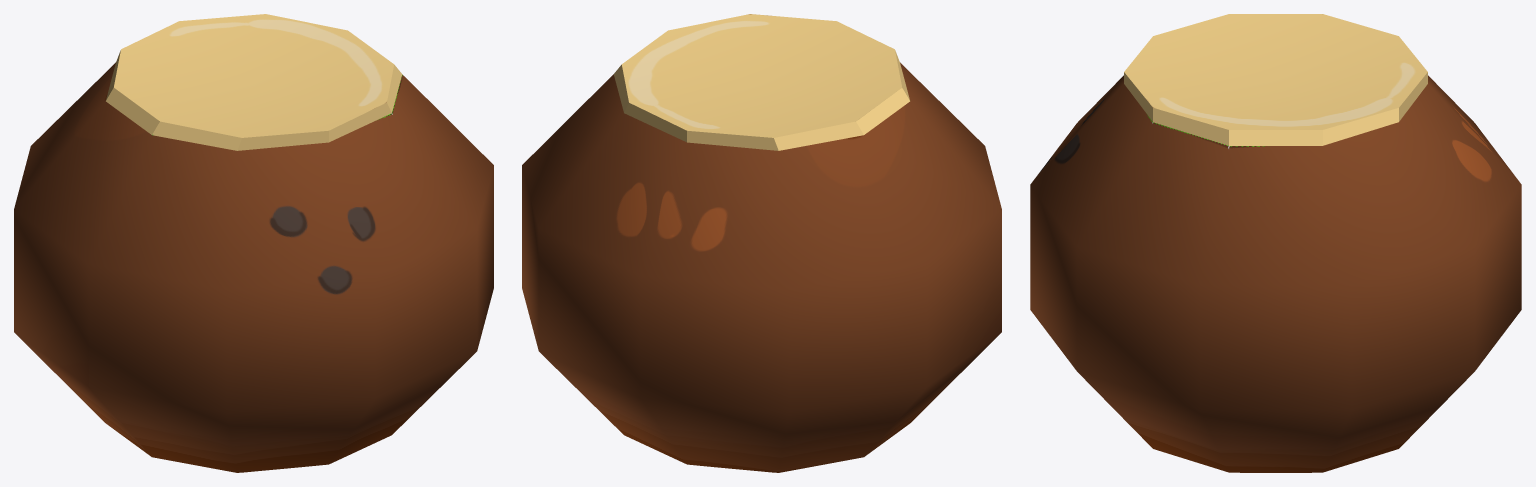
Rendered from Coco.fbx.
3 renders of one model, left to right at view 1: azimuth 30°, elevation 25°; view 2: azimuth 150°, elevation 25°; view 3: azimuth 270°, elevation 25°, orthographic.
Visible parts, largest first — view 1: Sphere001; view 2: Sphere001; view 3: Sphere001.
Part boxes in pixels (<box>): Sphere001: <box>14,14,493,472</box>; Sphere001: <box>522,14,1001,472</box>; Sphere001: <box>1030,14,1521,472</box>.
Bounding box in the file's own units: 23.55 × 20 × 24.4.
